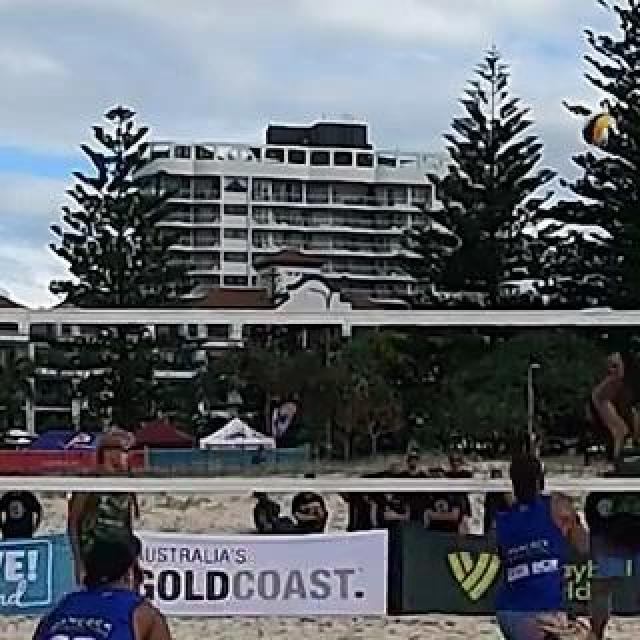volleyball: (584, 113, 614, 147)
